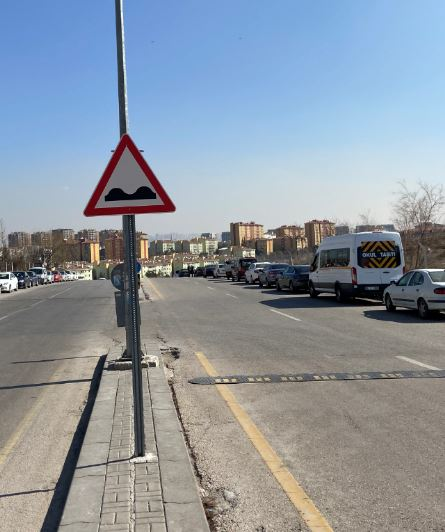Kasisli Yol: (88, 136, 177, 227)
